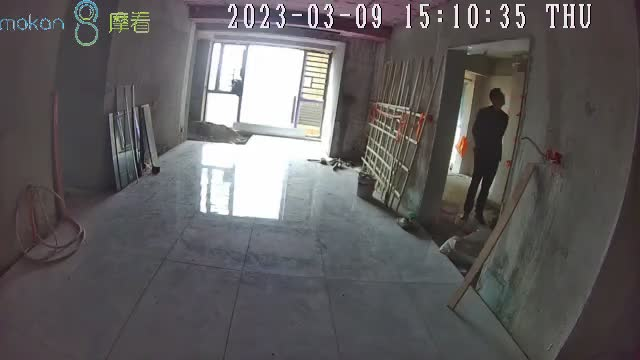people: (461, 88, 509, 225)
window: (203, 38, 329, 139)
